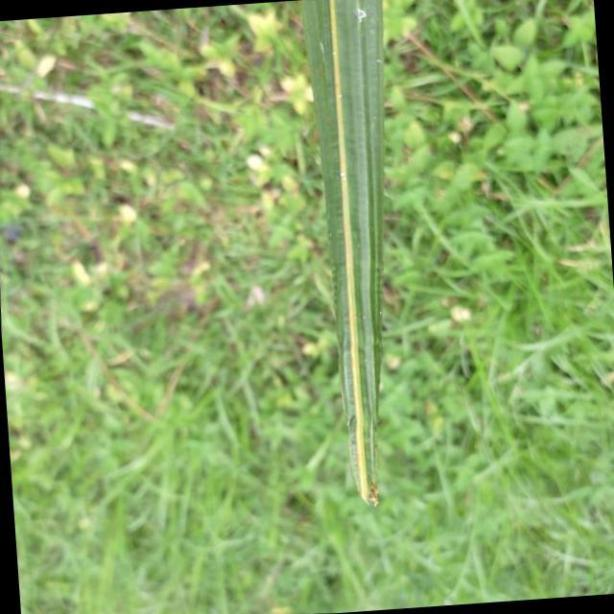Boron: (302, 0, 386, 512)
